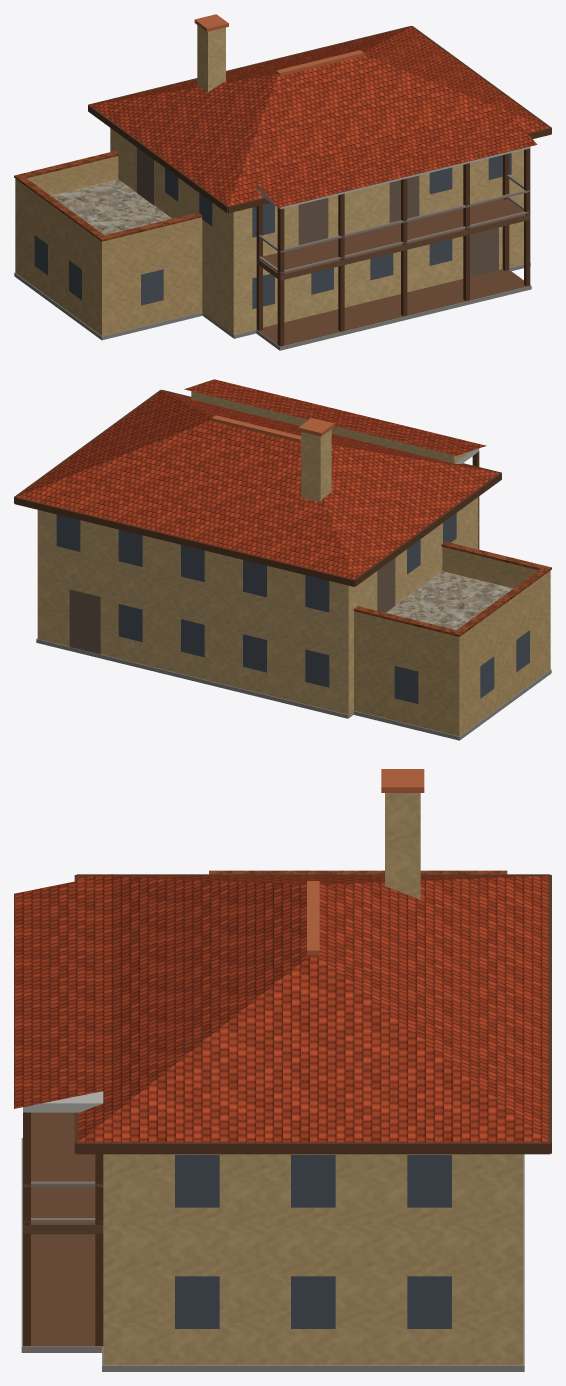
File: cr-hacienda.towns-v1.lod1.glb
The picture shows the model from 3 angles, top to bottom: view 1: azimuth 30°, elevation 25°; view 2: azimuth 150°, elevation 25°; view 3: azimuth 270°, elevation 25°; orthographic projection. The views are drawn at different scales.
Parts seen in each view (by area): view 1: cr-hacienda; view 2: cr-hacienda; view 3: cr-hacienda.
Part boxes in pixels (x1,y1,x2,y2): cr-hacienda: (14,14,551,350); cr-hacienda: (14,379,551,740); cr-hacienda: (14,769,551,1371).
Size of the model in its own units: 18.08 by 9.94 by 12.04.
4 materials, 3 textured.
